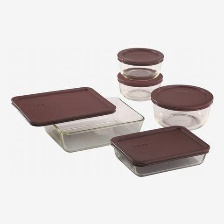plastic_box: (2, 78, 148, 157), (105, 121, 215, 181), (145, 79, 217, 132), (111, 42, 167, 103)
